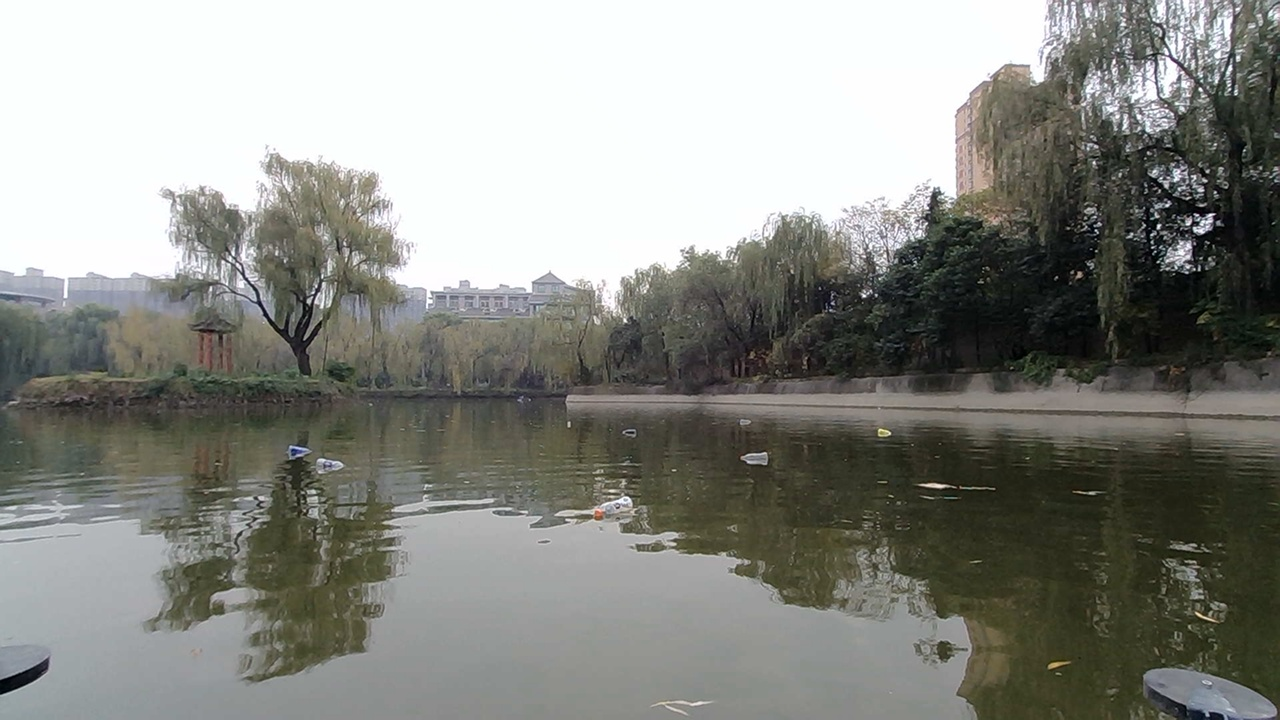bottle: (732, 432, 779, 474), (308, 440, 352, 480), (591, 495, 635, 528), (614, 407, 648, 439), (868, 419, 896, 449), (287, 439, 310, 465), (561, 419, 589, 439)
